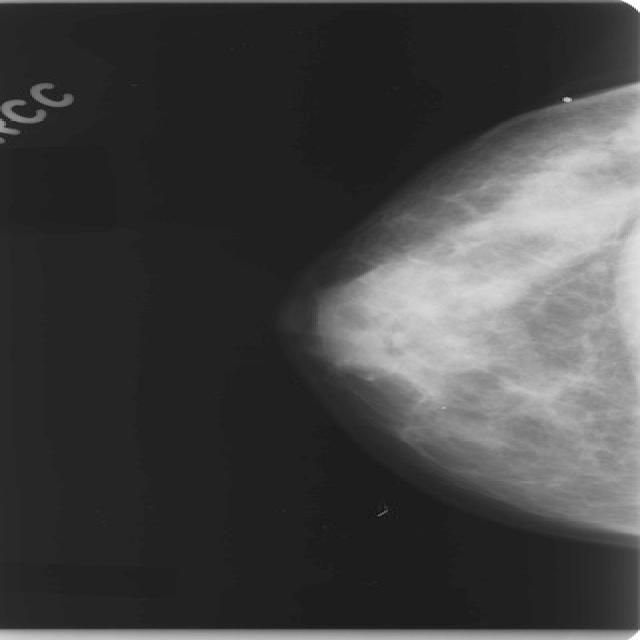tumour: (542, 147, 612, 170)
